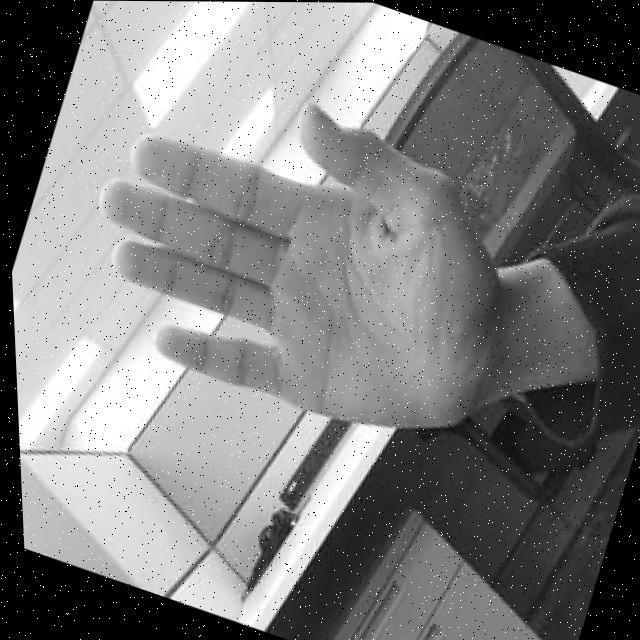no-gloves: (40, 38, 545, 468)
